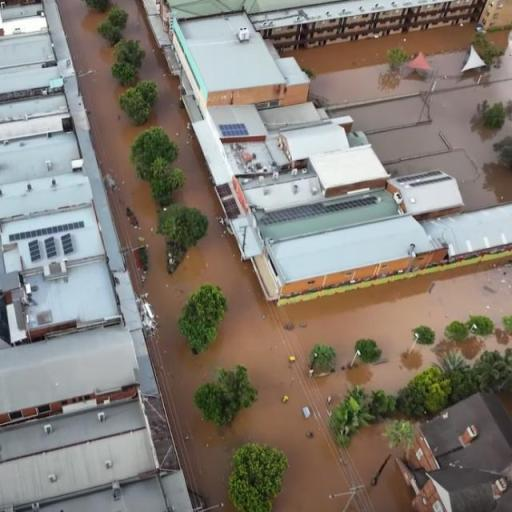flood: (59, 0, 512, 512), (291, 24, 512, 210), (490, 30, 508, 46)
house: (170, 0, 302, 119), (406, 387, 512, 494), (302, 142, 392, 196), (388, 165, 462, 219), (277, 120, 354, 166)
